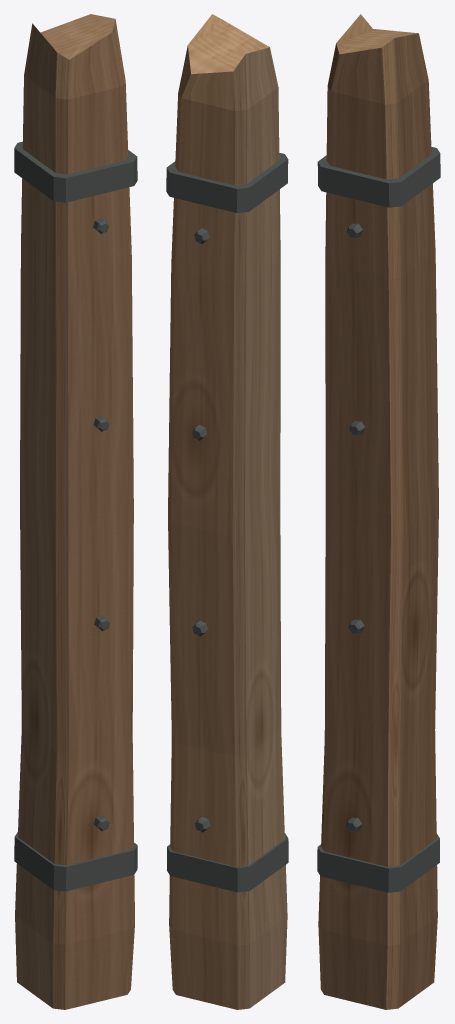
Rendered from fence_post_04.glb.
The picture shows the model from 3 angles, left to right: view 1: azimuth 30°, elevation 25°; view 2: azimuth 150°, elevation 25°; view 3: azimuth 330°, elevation 25°; orthographic projection.
Visible parts, largest first — view 1: TileDecorationFencePost04; view 2: TileDecorationFencePost04; view 3: TileDecorationFencePost04.
Part boxes in pixels (x1,y1,x2,y2): TileDecorationFencePost04: (14, 14, 137, 1009); TileDecorationFencePost04: (166, 14, 288, 1009); TileDecorationFencePost04: (317, 14, 440, 1009).
Bounding box in the file's own units: 0.0865 × 0.95 × 0.1028.
2 materials, 1 textured.
